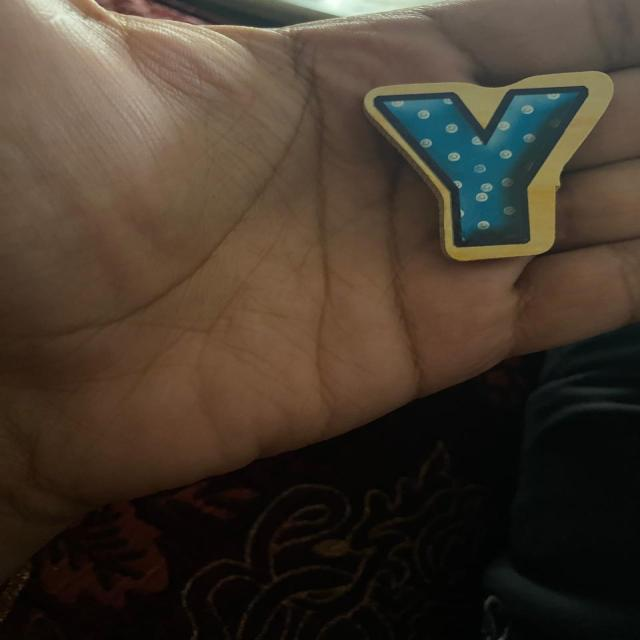Y: (363, 72, 612, 261)
